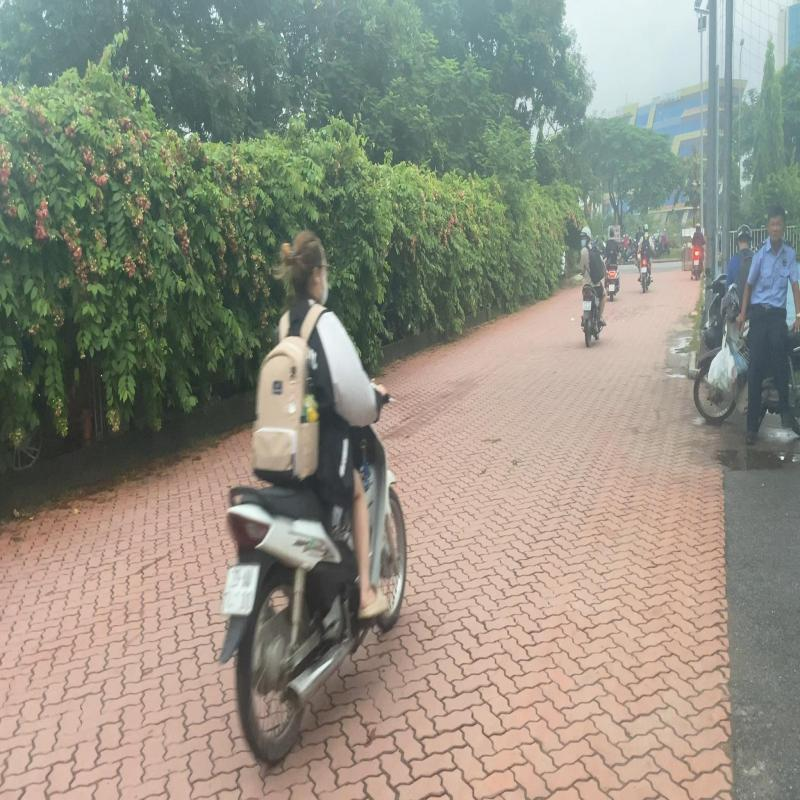licenseplate: (222, 562, 261, 620)
motorcyclist: (211, 217, 410, 769)
nohelmet: (278, 231, 330, 302)
